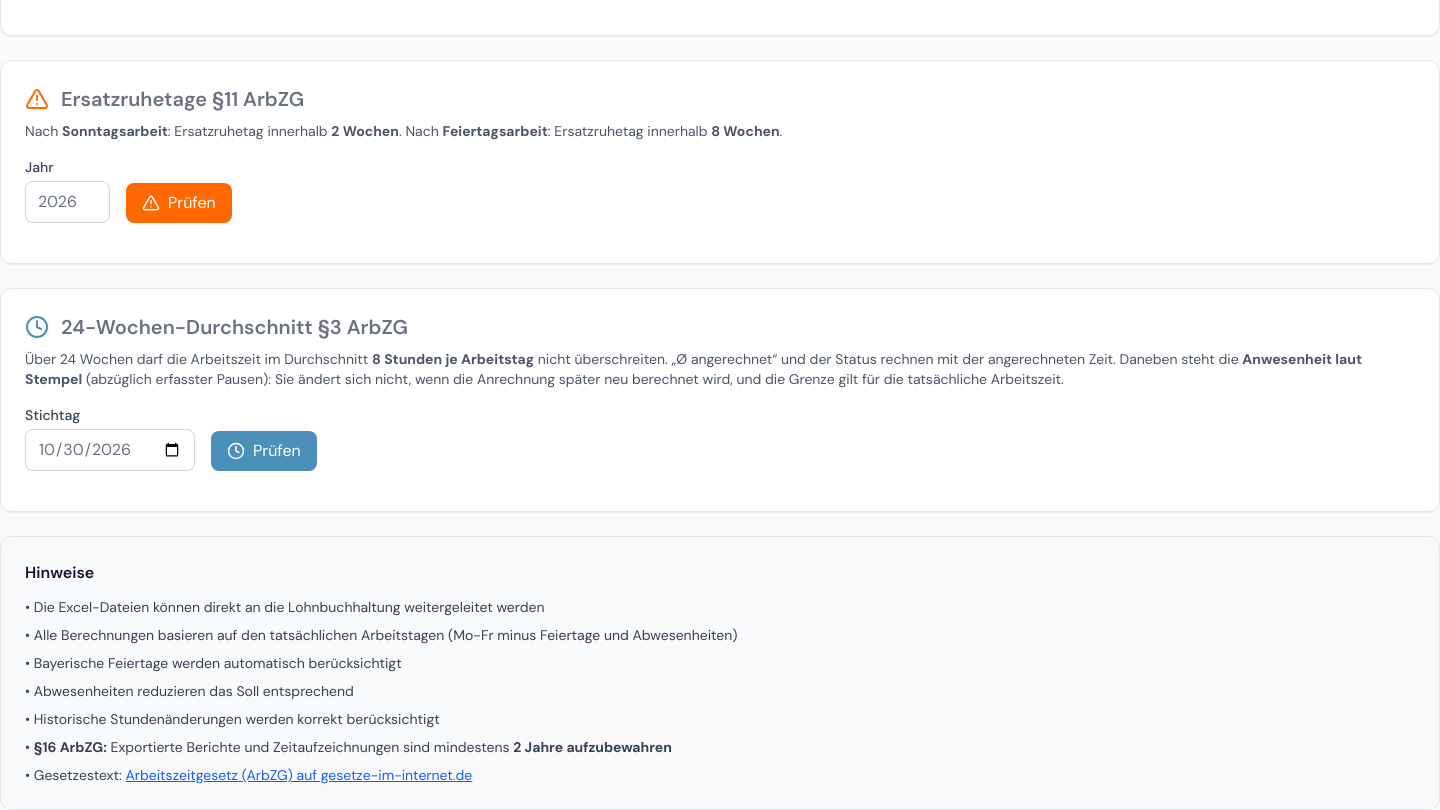
Test: <Reports /> 24-Wochen-Durchschnitt (Spec 8.1, P22) › nennt Wochen mit mehr als 48 h laut Stempel (Spec 8.1/11.1 „je Woche")
(page scrolled)
Click the button with aria-label "24-Wochen-Durchschnitt prüfen": {"x": 264, "y": 451} top-left (211, 431), bottom-right (317, 471)
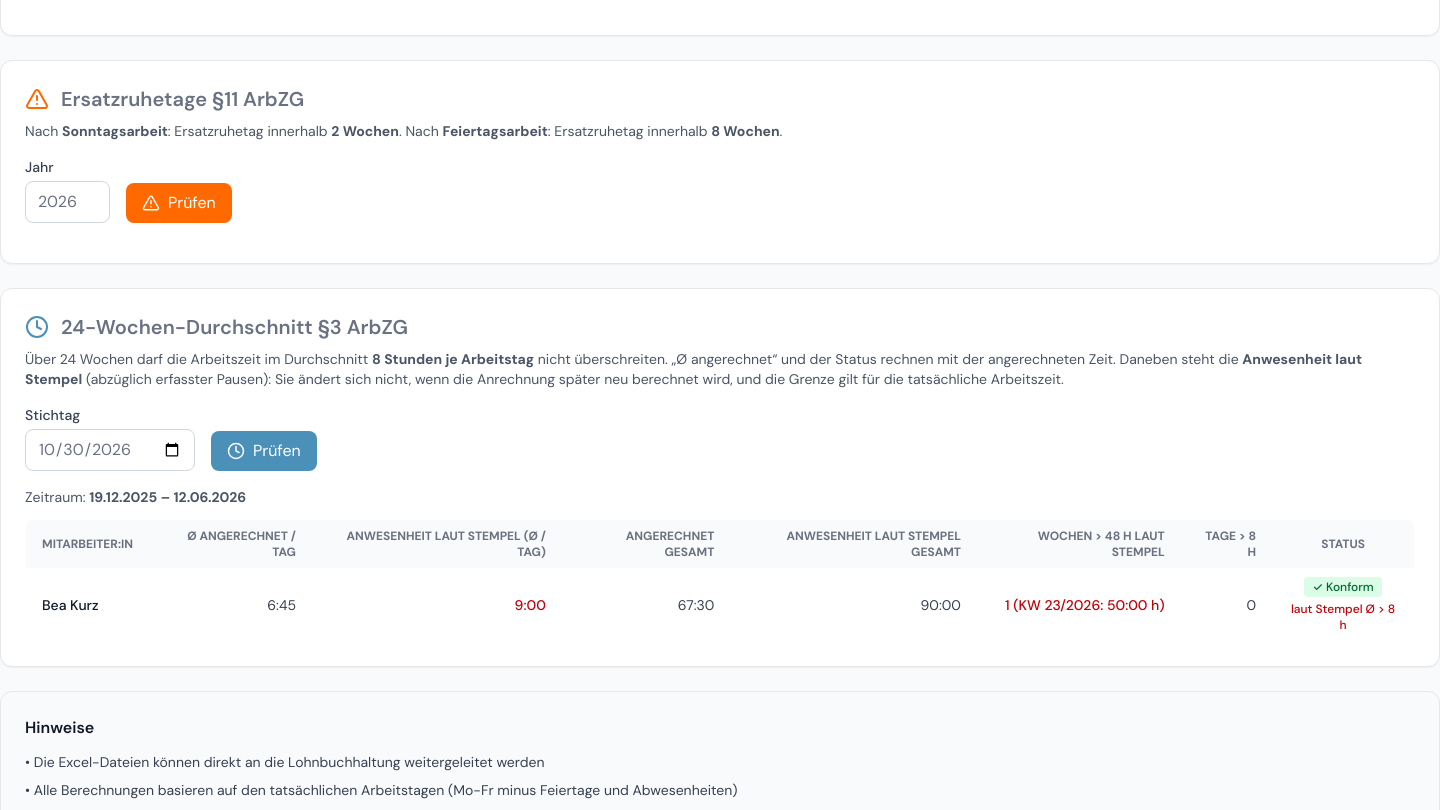
Result: the text "1 (KW 23/2026: 50:00 h)" is shown at top-left (977, 568), bottom-right (1181, 642)
